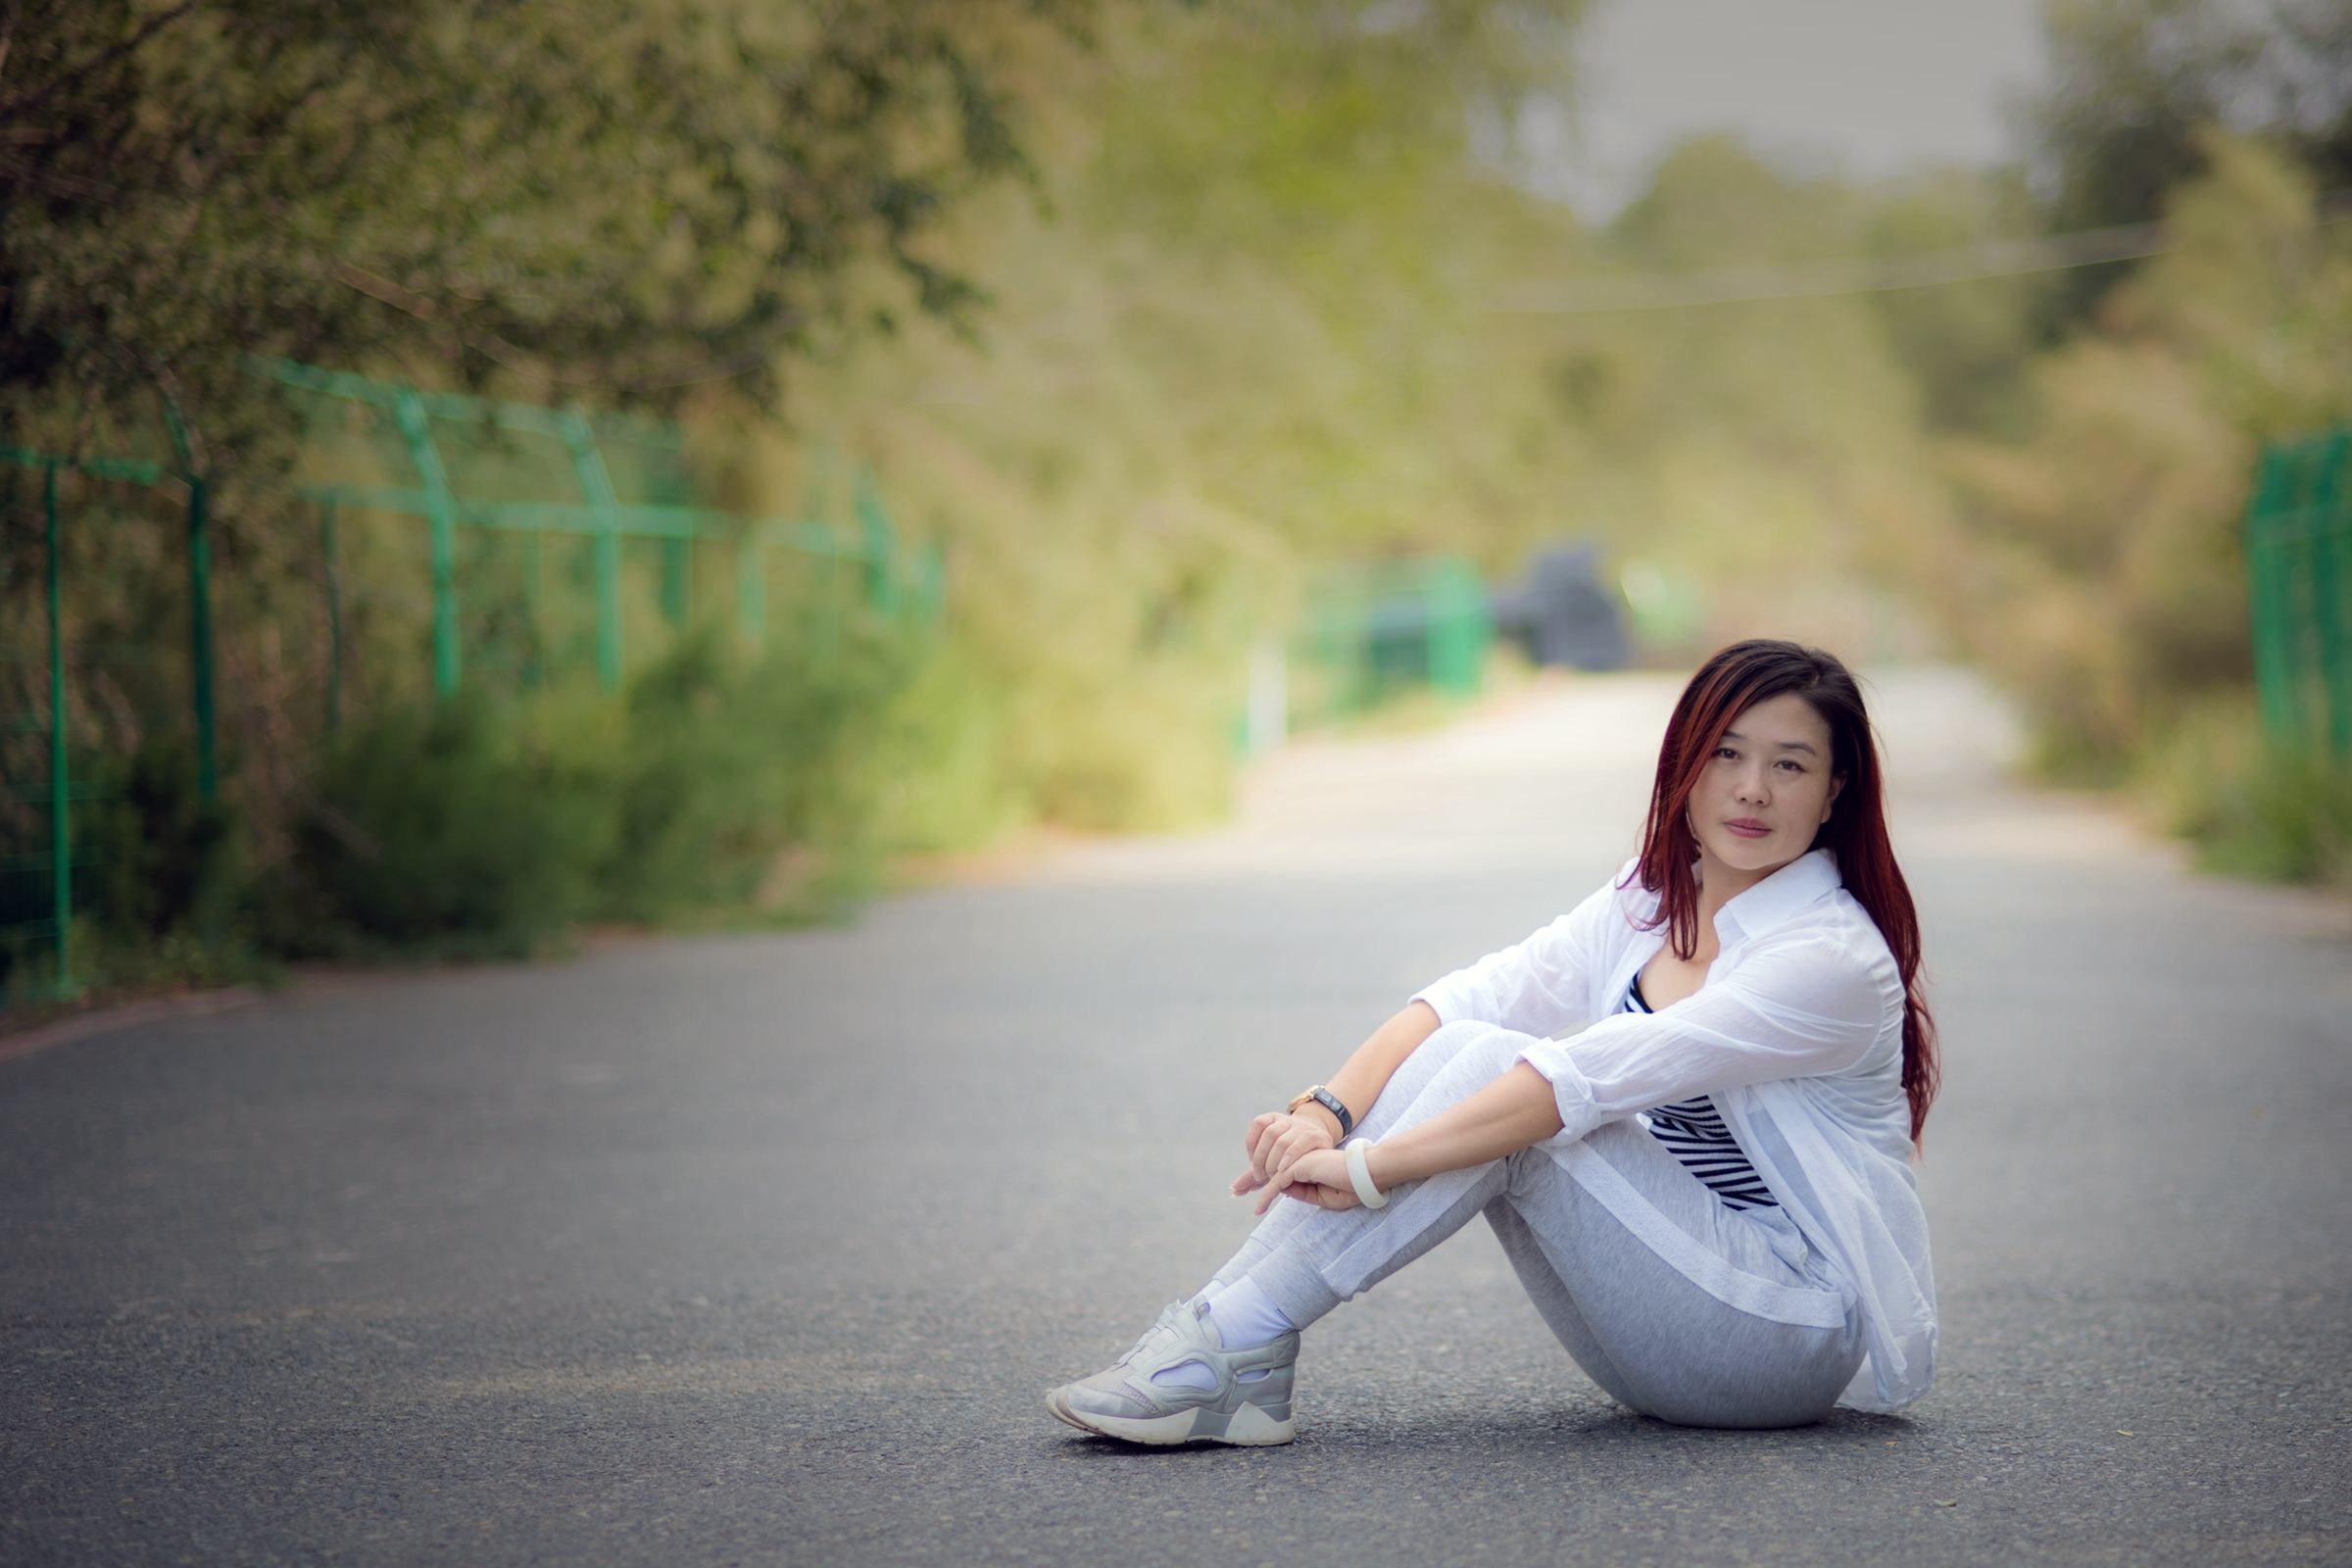person: (1217, 577, 2015, 1443)
